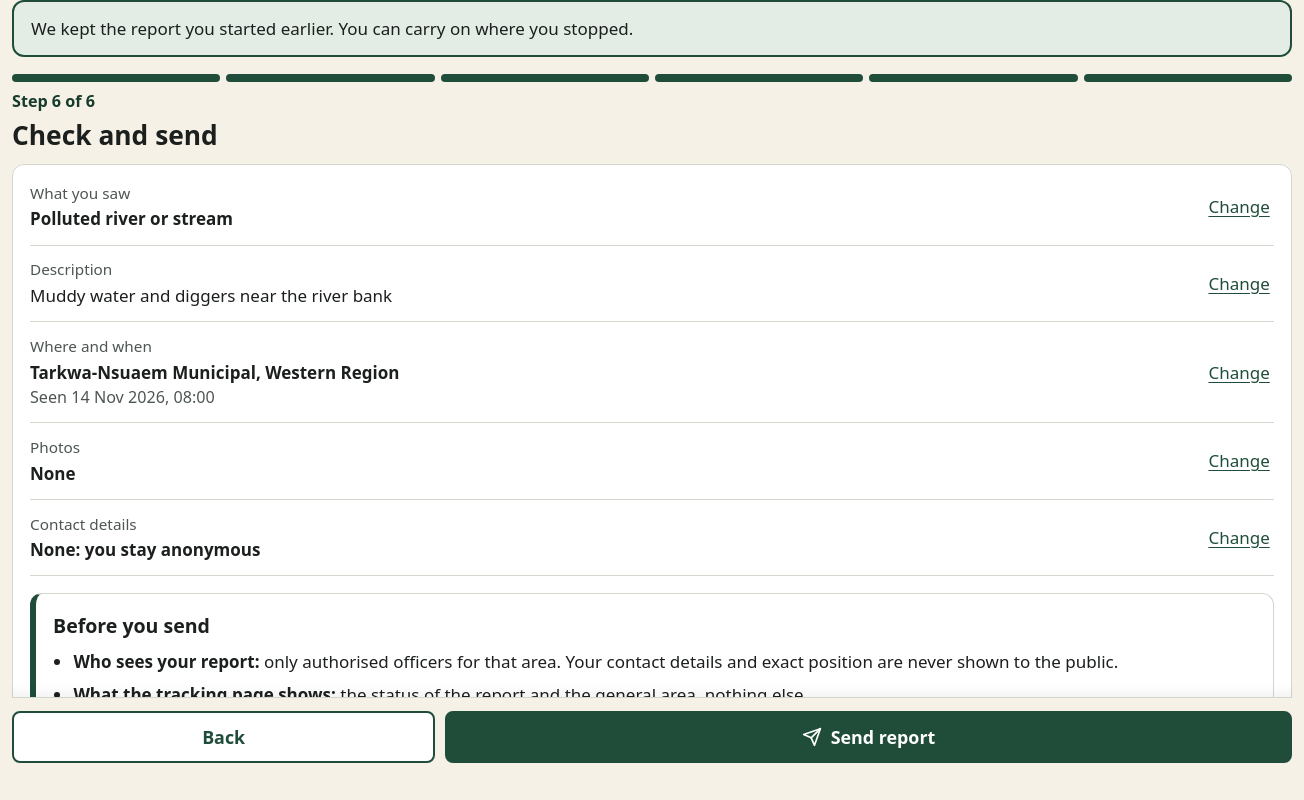
Test case: ReportPage, step by step › offers 'Skip' on an empty optional step and 'Next' once something is in it
This screenshot has width=1304, height=800.
Expected: the heading "Check and send" is shown, [12,116,218,152]
Click the button with aria-label "Change contact details". click: click(1239, 538)
box: [1204,516,1274,560]
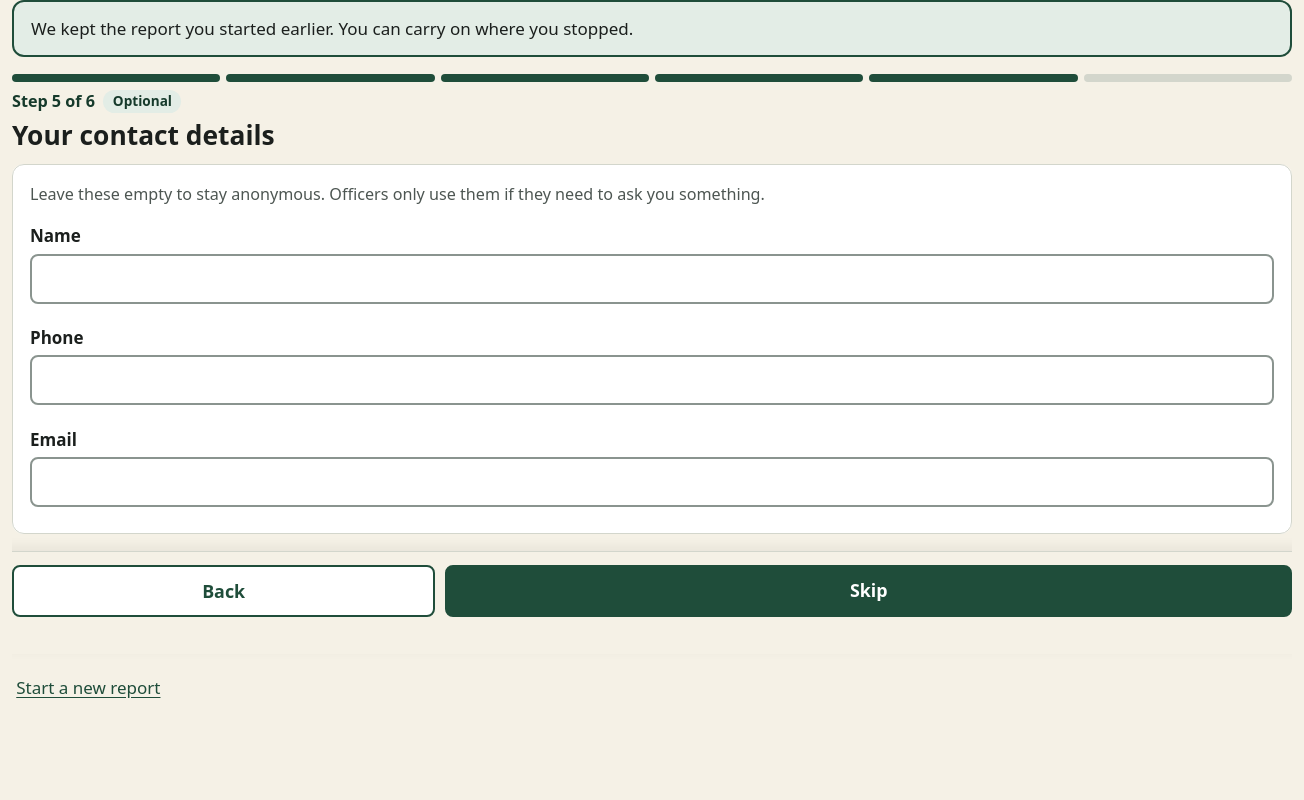
Result: the heading "Your contact details" is shown at [12,116,275,152]
Result: the button "Skip" is shown at [446,564,1292,616]
Type "0240000000" into the field labelled "Phone". click: (652, 380)
box: [30,355,1274,405]
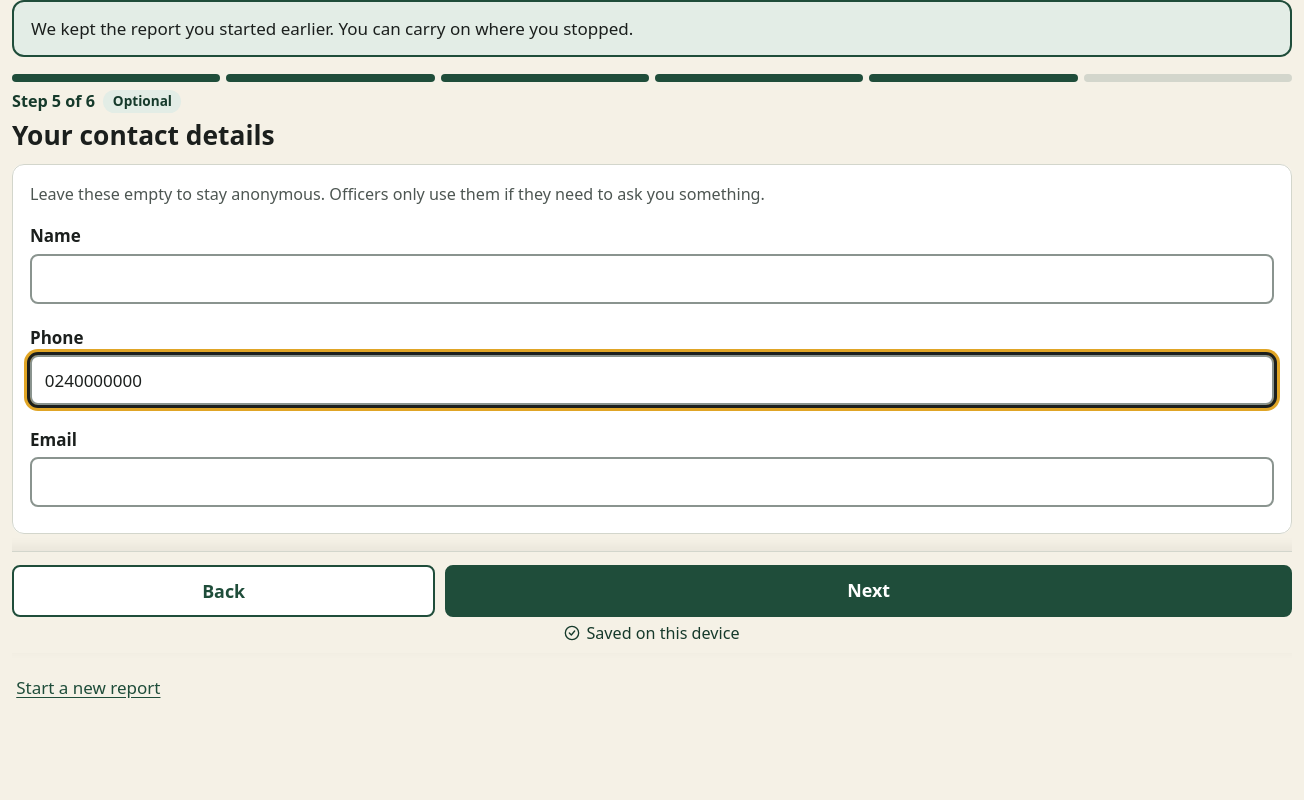
Result: the button "Next" is shown at [446,564,1292,616]
